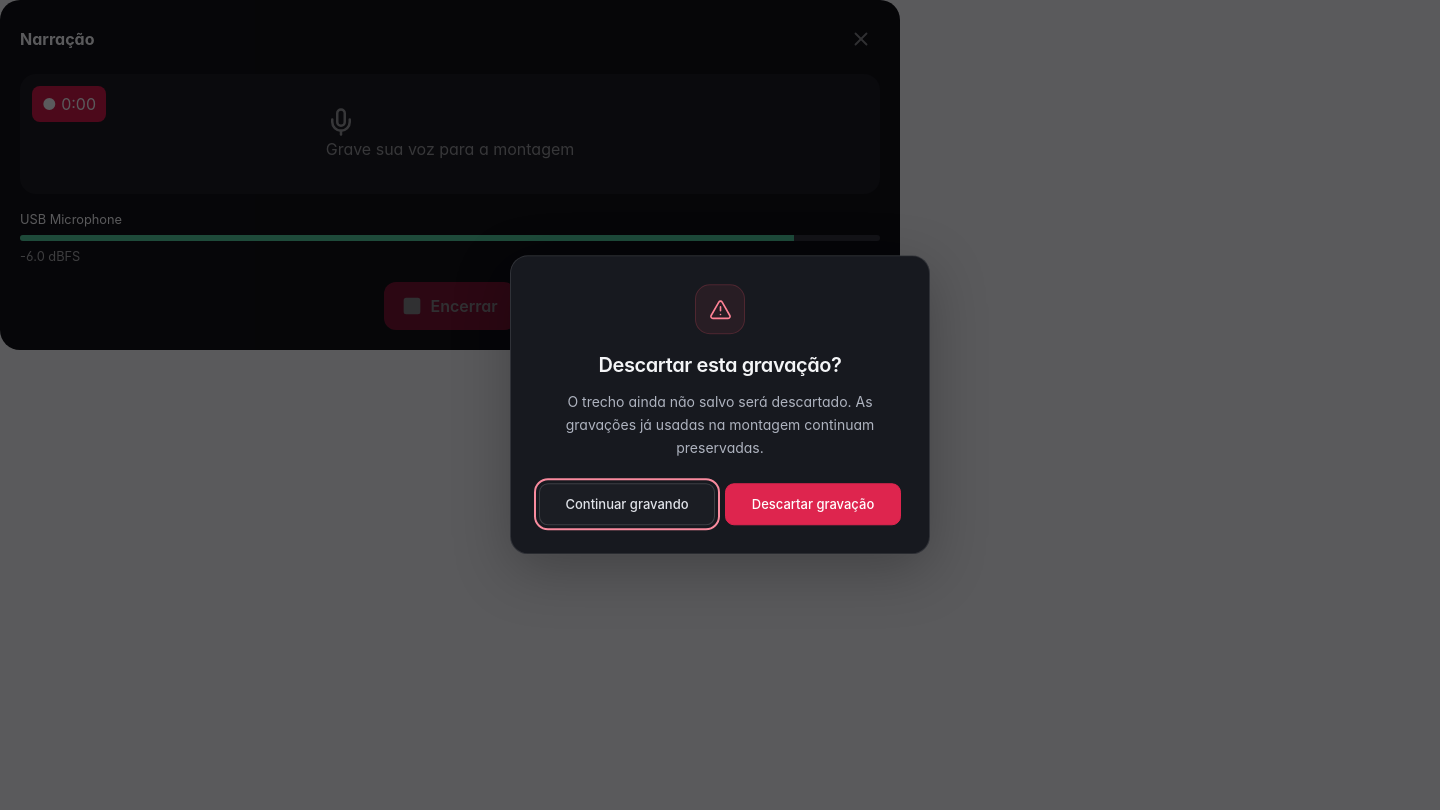
StudioRecorder com lifecycle React real › cancelar o diálogo conserva o REC e bloqueia STOP e salvamento até responder, sem confirmação nativa
The width and height of the screenshot is (1440, 810).
Earlier steps of the test are not shown.
Later steps or results of the test are not shown.
Check: the dialog is shown, box [510,255,930,555]
Click the button "Continuar gravando" at (627, 505), box [539,484,715,526]
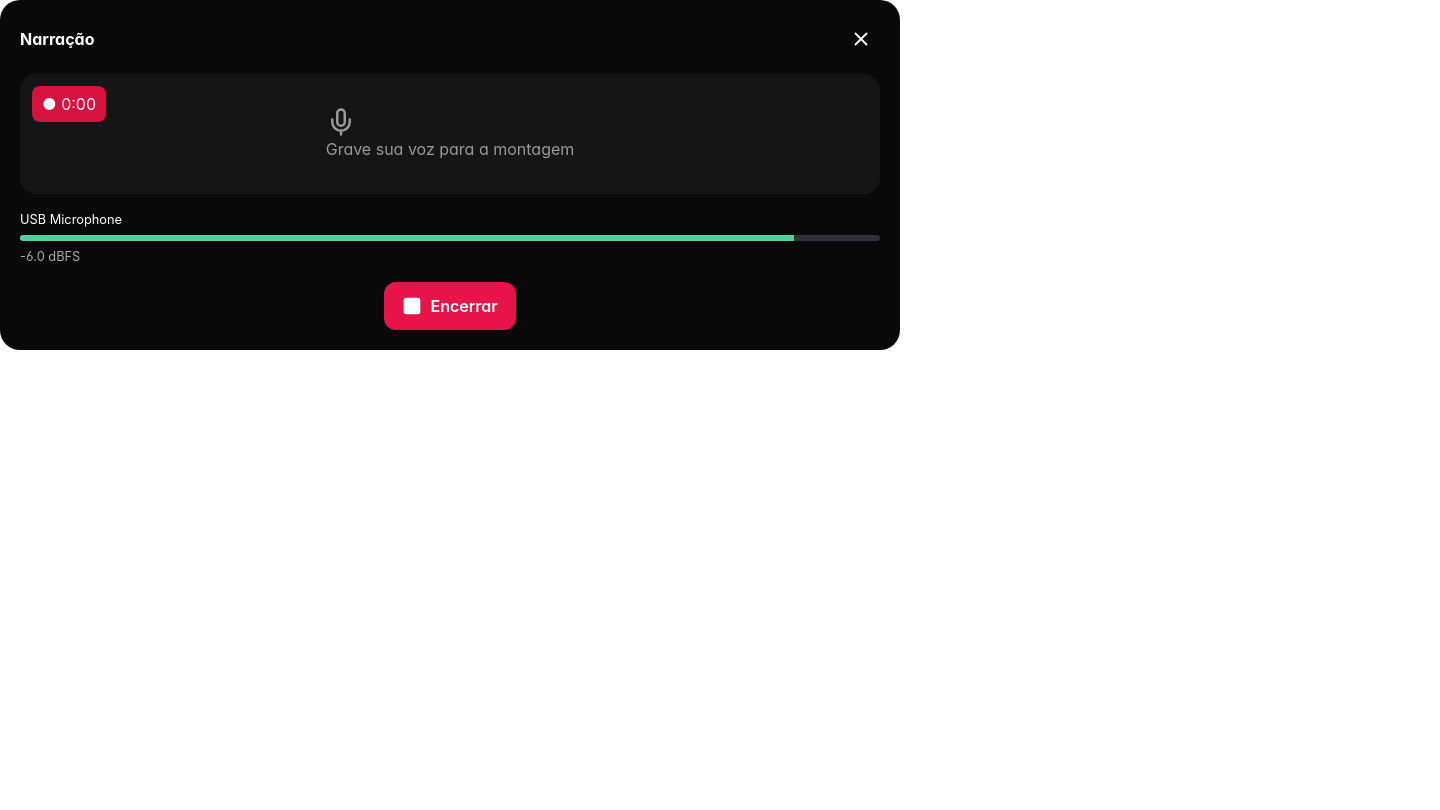
Click the button "Encerrar" at (450, 306), box [384,282,516,330]
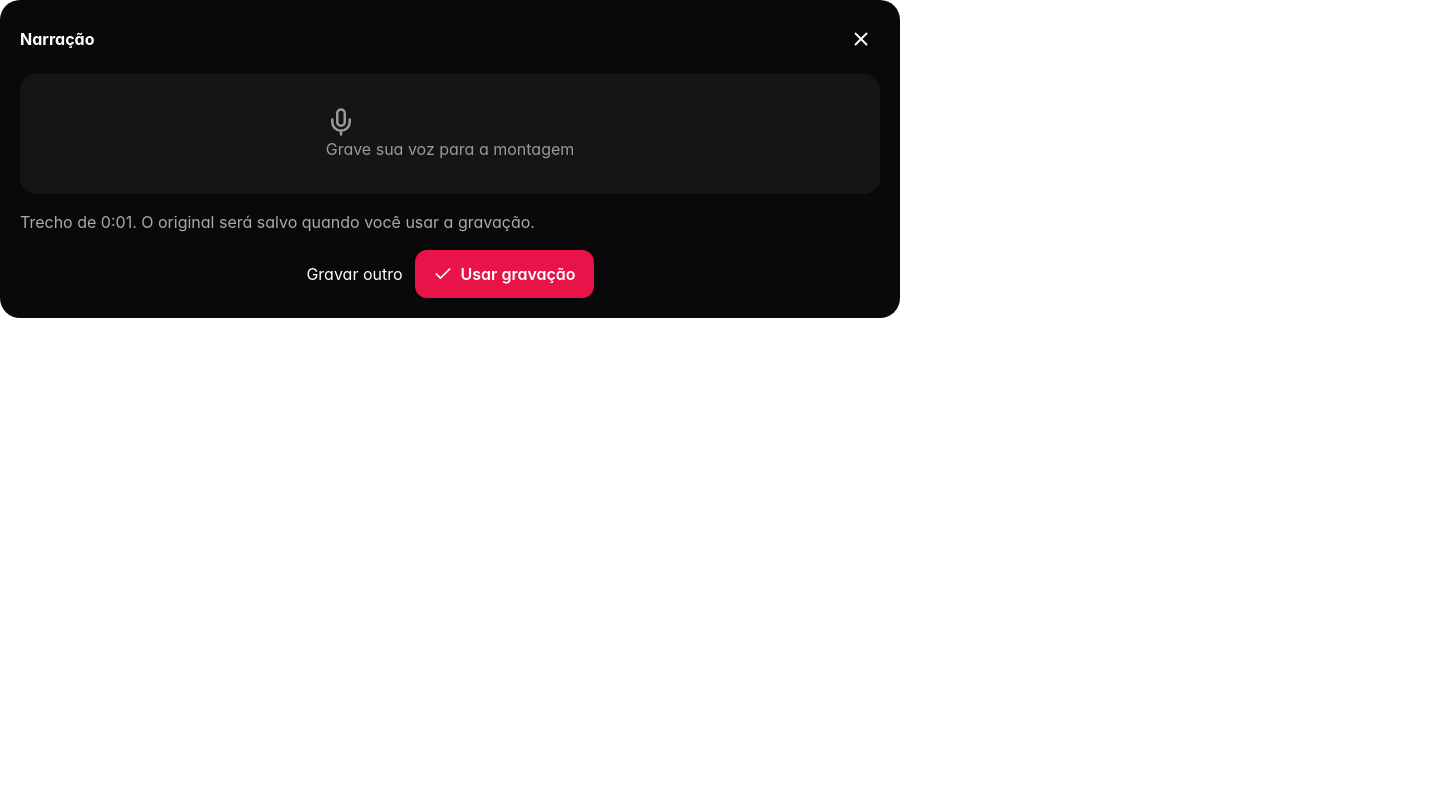
Check: the button "Usar gravação" is shown, box [414,250,594,298]
